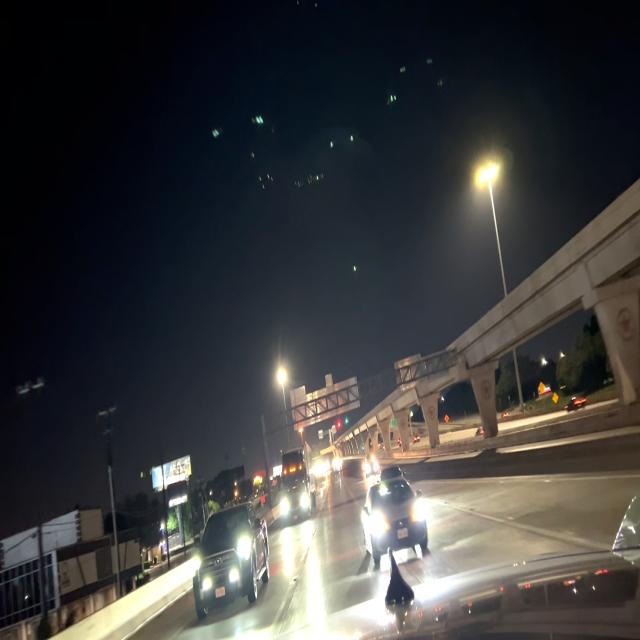back-of-sign: (290, 374, 361, 431), (394, 352, 428, 394)
